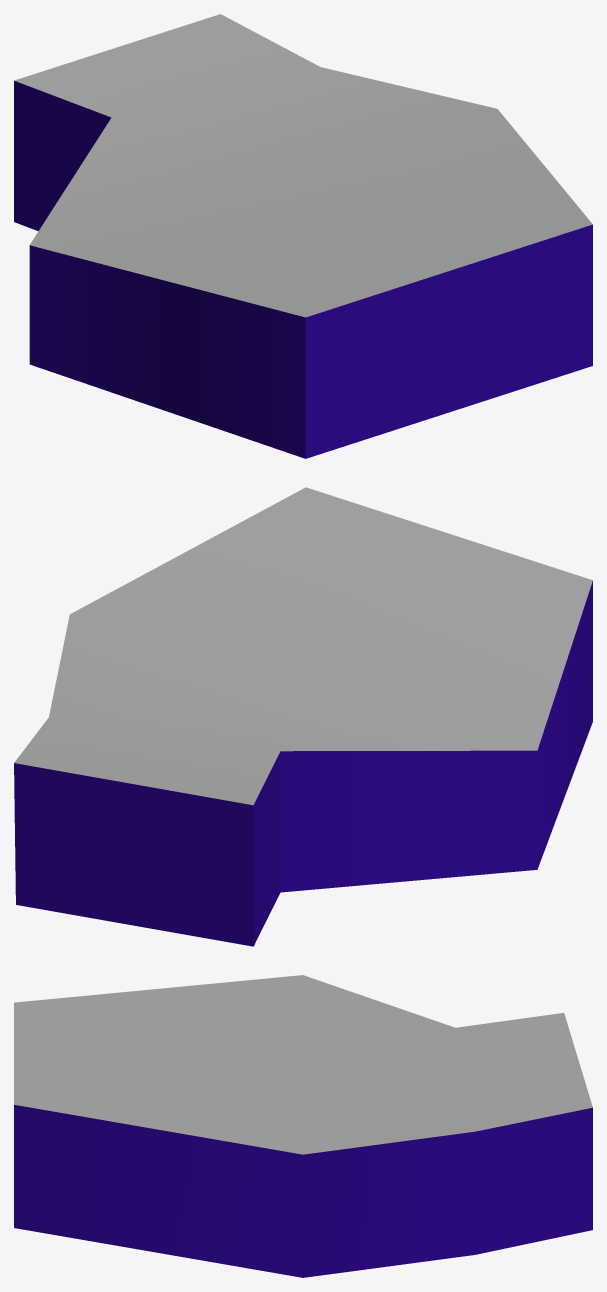
The model's file is Shard_S_8_N_2.fbx.
The picture shows the model from 3 angles, top to bottom: view 1: azimuth 30°, elevation 25°; view 2: azimuth 150°, elevation 25°; view 3: azimuth 270°, elevation 25°; orthographic projection. The views are drawn at different scales.
Visible parts, largest first — view 1: pCube1; view 2: pCube1; view 3: pCube1.
Boxes of the visible parts, x1,y1,x2,y2 form: pCube1: (14, 14, 592, 458); pCube1: (14, 487, 592, 946); pCube1: (14, 975, 592, 1277).
Bounding box in the file's own units: 1.63 × 0.5854 × 2.
